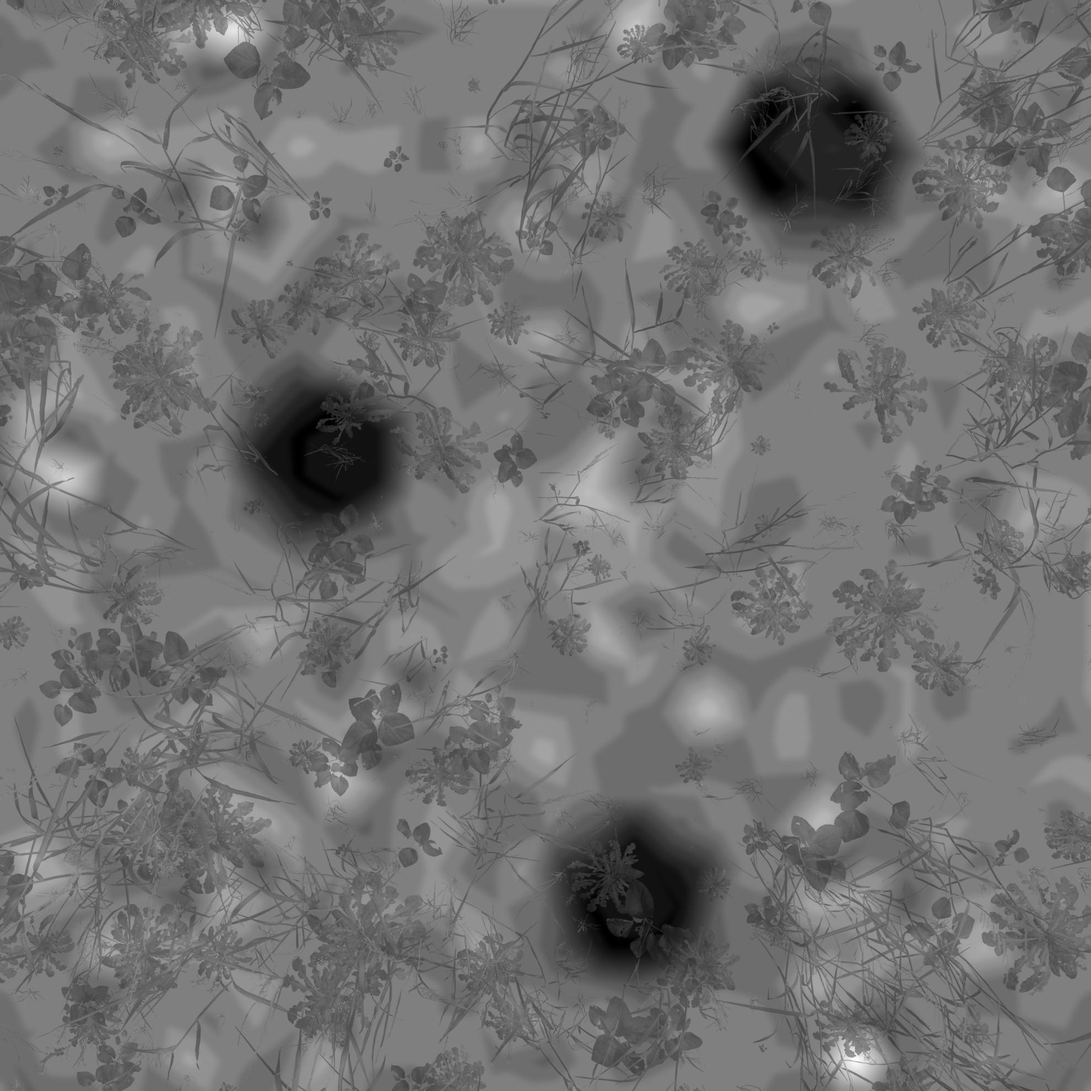landmine: (547, 803, 722, 969), (718, 72, 885, 236), (243, 370, 397, 527)
